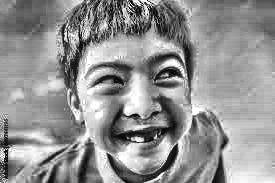happy: (71, 21, 210, 177)
